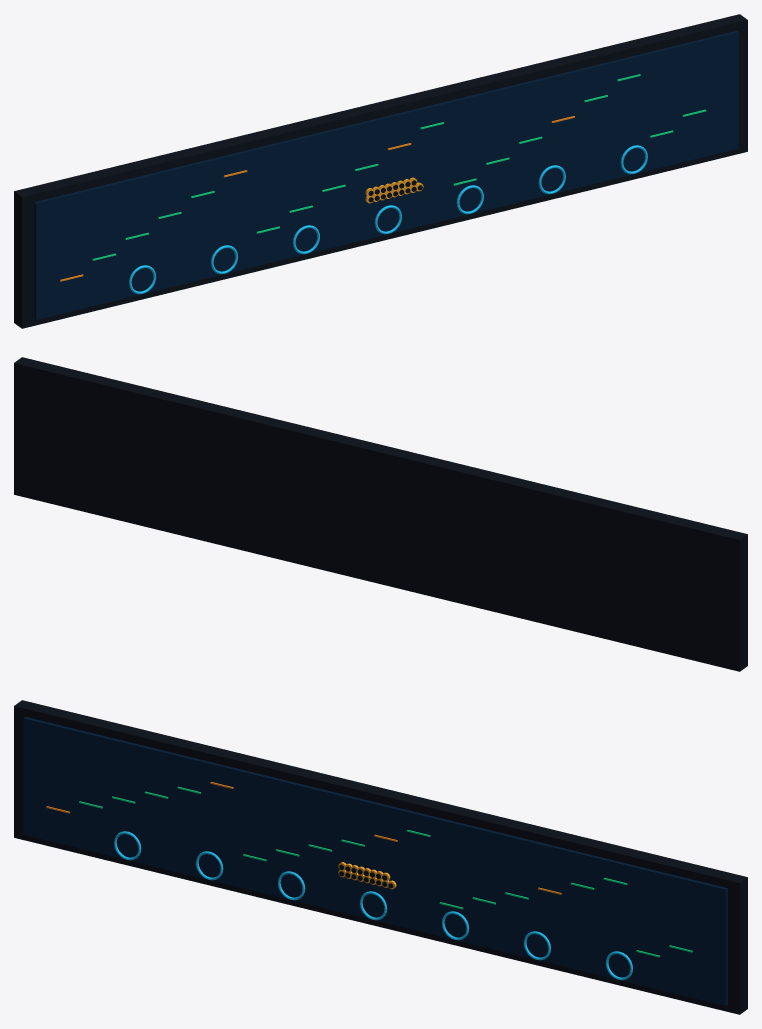
Rendered from 81_L87_GravityEngineeringMasterSCADA.fbx.
The picture shows the model from 3 angles, top to bottom: view 1: azimuth 30°, elevation 25°; view 2: azimuth 150°, elevation 25°; view 3: azimuth 330°, elevation 25°; orthographic projection.
Visible parts, largest first — view 1: L87_GravityEngineeringMasterSCADA_Part_0001, L87_GravityEngineeringMasterSCADA, L87_GravityEngineeringMasterSCADA_Part_0004, L87_GravityEngineeringMasterSCADA_Part_0003; view 2: L87_GravityEngineeringMasterSCADA; view 3: L87_GravityEngineeringMasterSCADA_Part_0001, L87_GravityEngineeringMasterSCADA, L87_GravityEngineeringMasterSCADA_Part_0004, L87_GravityEngineeringMasterSCADA_Part_0003.
Part boxes in pixels (x1,y1,x2,y2): L87_GravityEngineeringMasterSCADA_Part_0001: [34, 31, 738, 319]; L87_GravityEngineeringMasterSCADA: [14, 14, 747, 328]; L87_GravityEngineeringMasterSCADA_Part_0004: [129, 145, 647, 294]; L87_GravityEngineeringMasterSCADA_Part_0003: [92, 74, 706, 260]; L87_GravityEngineeringMasterSCADA: [14, 357, 747, 671]; L87_GravityEngineeringMasterSCADA_Part_0001: [23, 717, 727, 1005]; L87_GravityEngineeringMasterSCADA: [14, 700, 747, 1014]; L87_GravityEngineeringMasterSCADA_Part_0004: [114, 831, 632, 980]; L87_GravityEngineeringMasterSCADA_Part_0003: [79, 786, 692, 957].
Bounding box in the file's own units: 1240 × 215 × 56.2.
